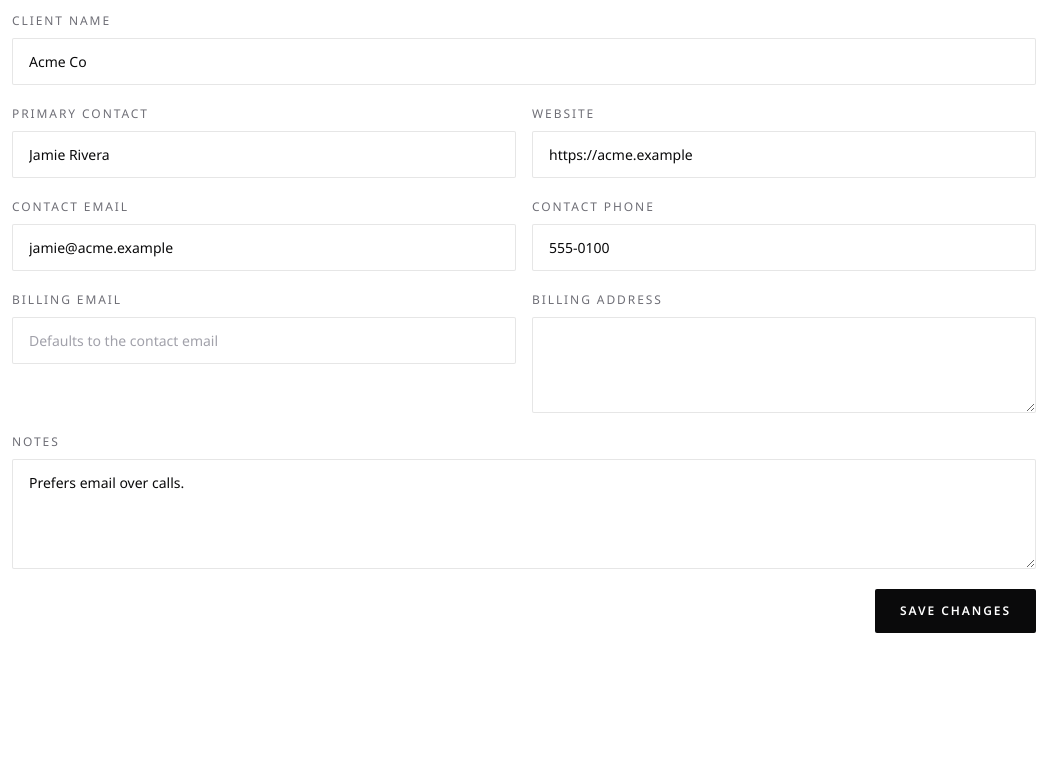
Test: ClientForm — edit mode › saves changes and shows an inline success message
Replace the text in the field labelled "Client name" with "Acme Corp". click: (524, 62)
box: x1=12 y1=38 x2=1036 y2=85
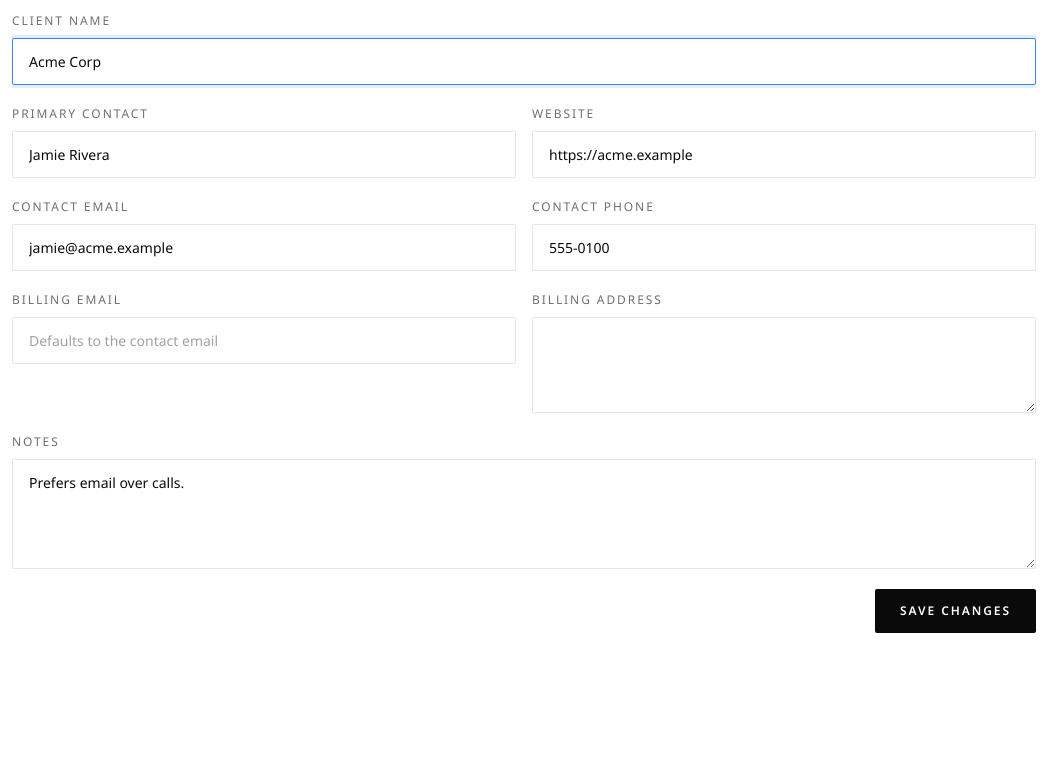
Click the button "Save changes". click: click(956, 611)
box: x1=875 y1=589 x2=1036 y2=633
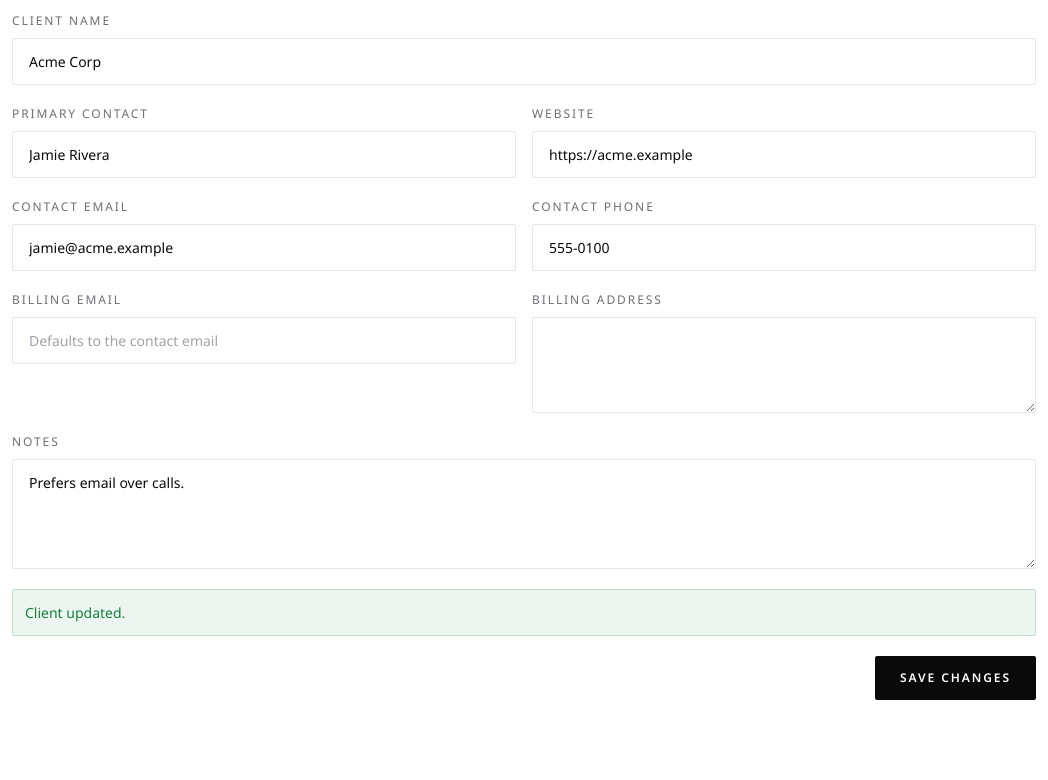
Now the text "Client updated." is shown, box x1=12 y1=589 x2=1036 y2=636
